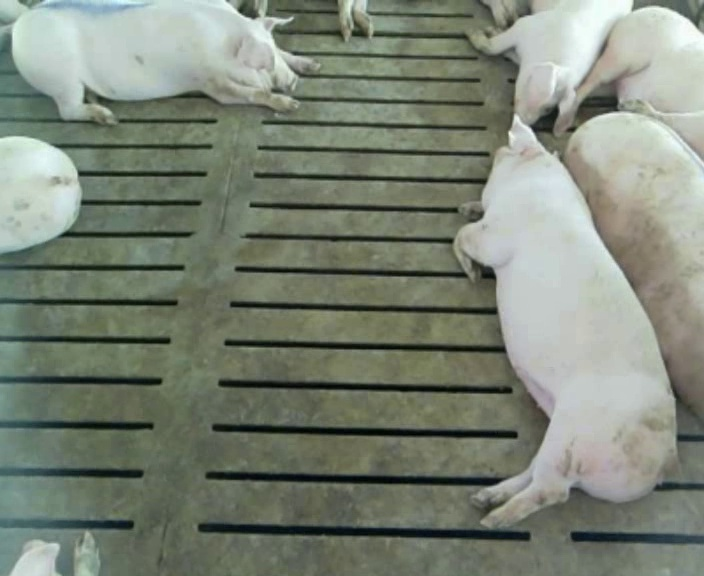pig: (453, 115, 676, 527), (564, 112, 703, 419), (12, 2, 319, 124), (468, 2, 630, 135), (0, 136, 81, 253)
